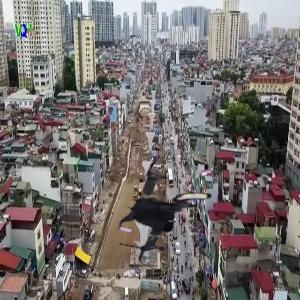drone: (109, 156, 230, 277)
